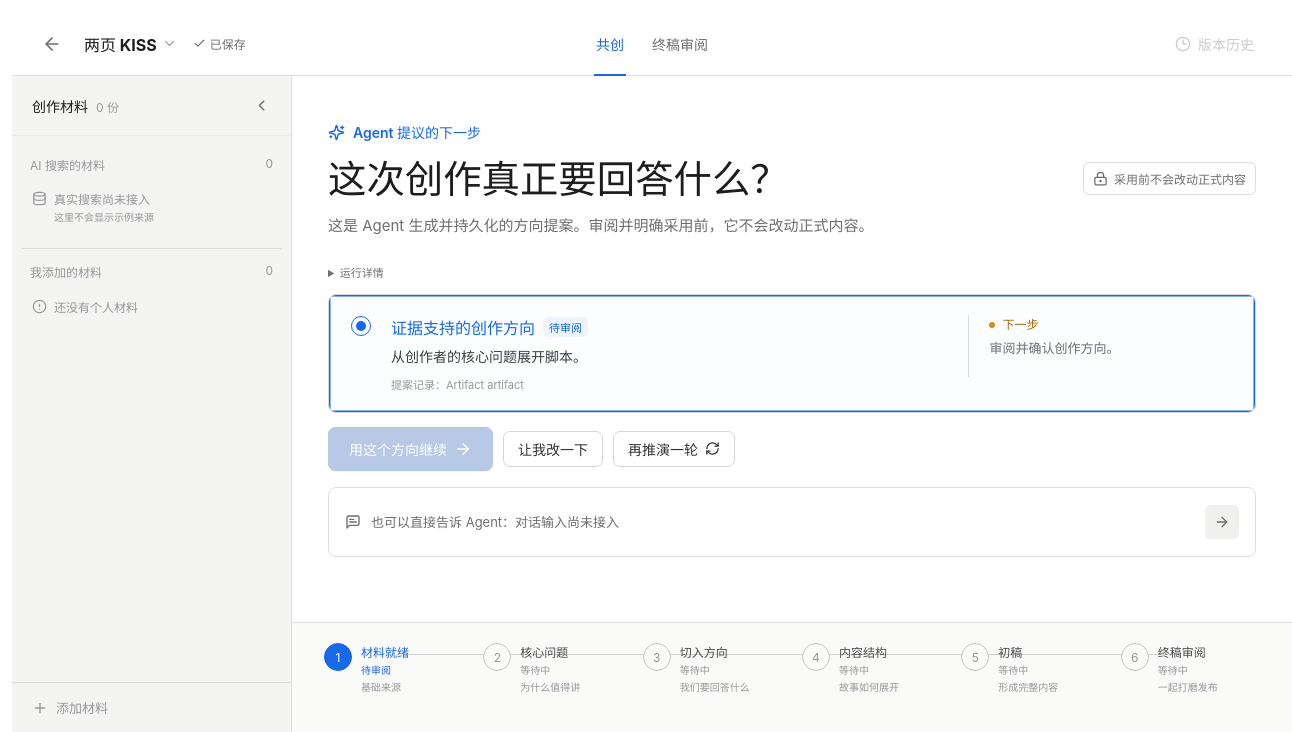
Spark to Script runtime surface › keeps exactly two creation spaces and never fabricates a review draft
Click the button "终稿审阅".
click(680, 44)  # box [650,12,710,75]
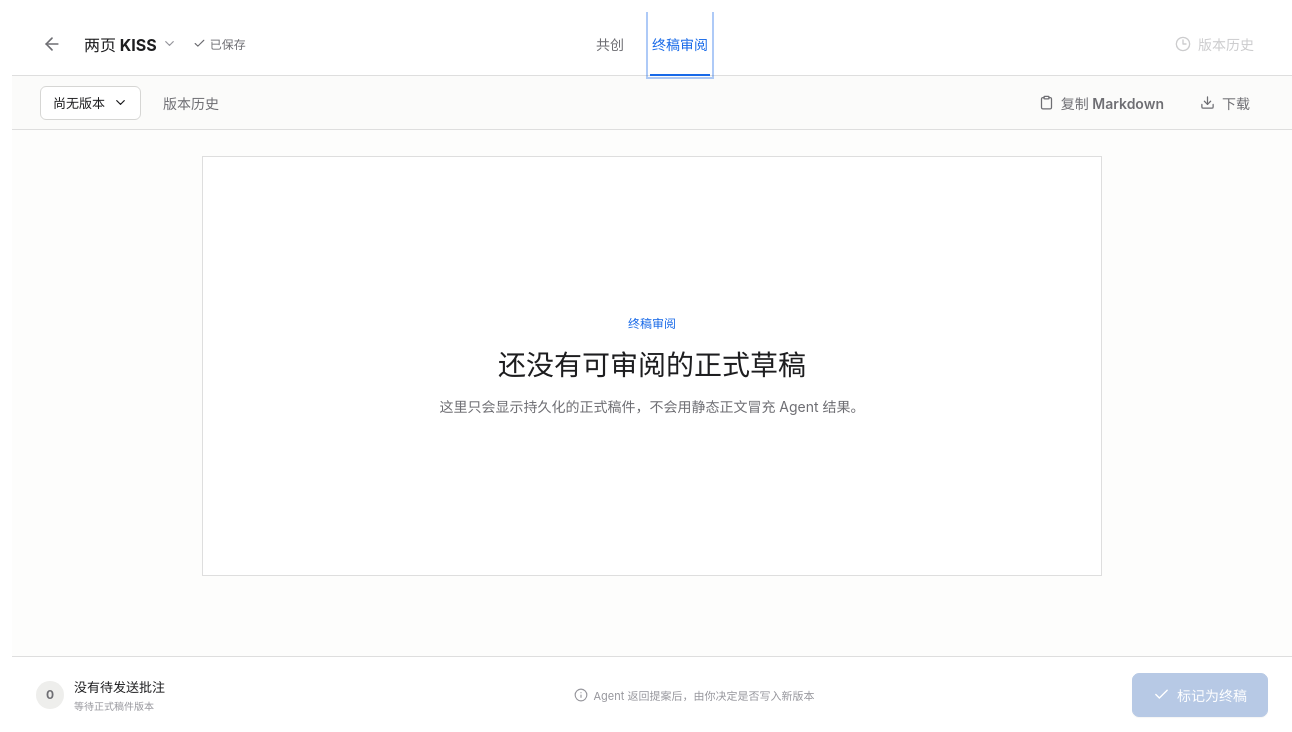
Expected: the heading "还没有可审阅的正式草稿" is shown, [498,343,806,383]
Expected: the element with class "review-space" is shown
Expected: the element with class "review-toolbar" is shown, [12,76,1291,130]
